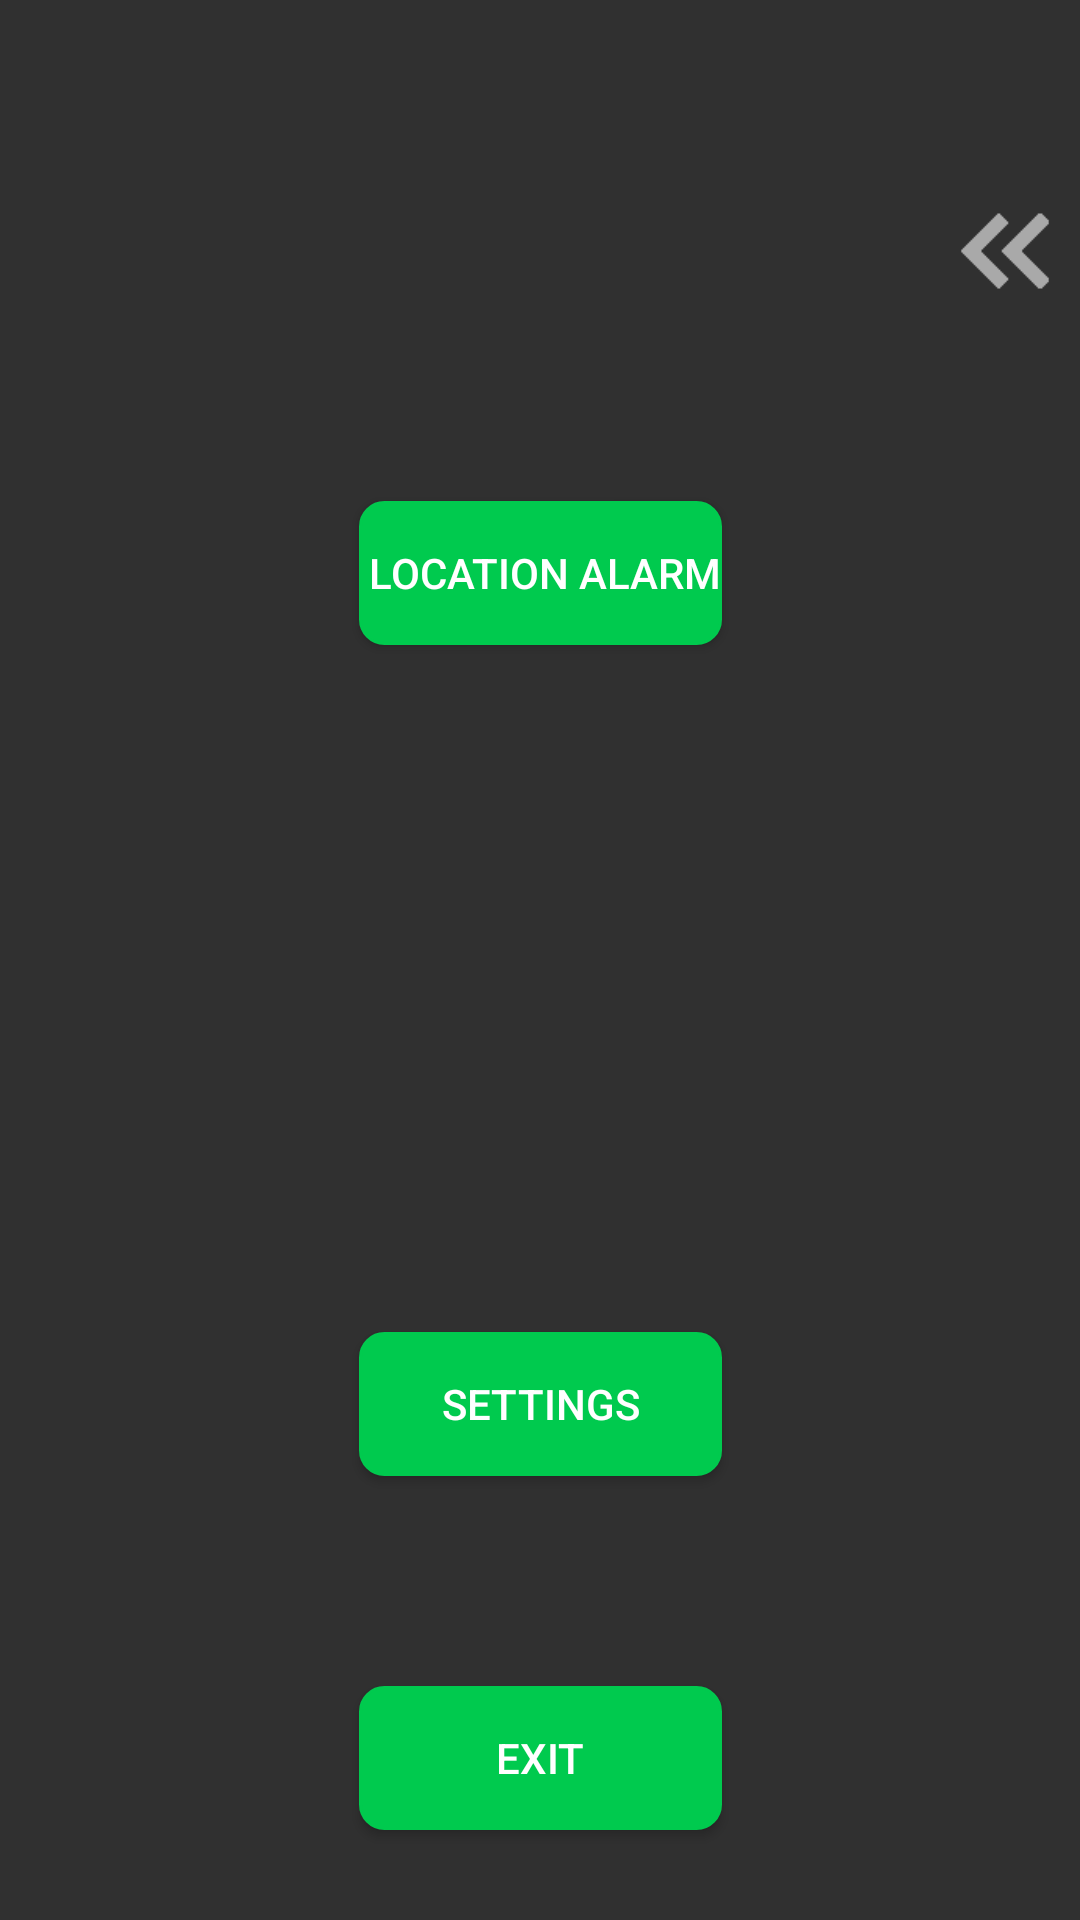

Screen size 1080px×1920px. Icon name, then its box in pixels as region(x1, y1, x2, y2):
keyboard double arrow left: region(961, 213, 1049, 289)
